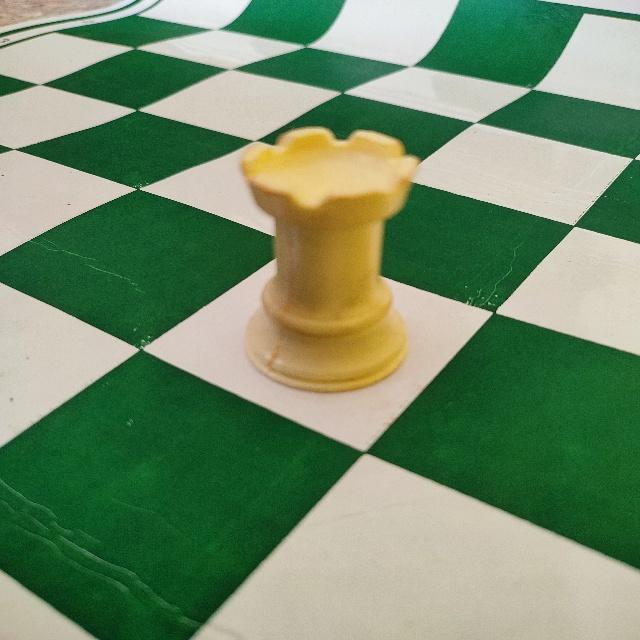Rook: (231, 122, 423, 402)
